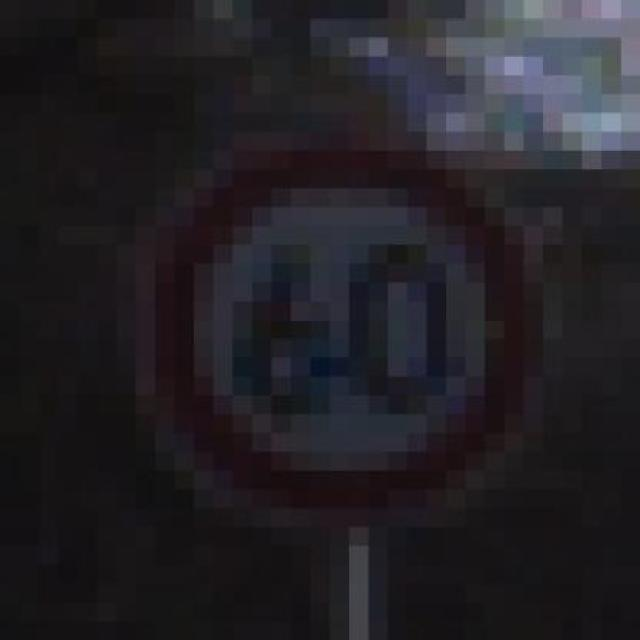forb_speed_over_60: (159, 159, 513, 499)
